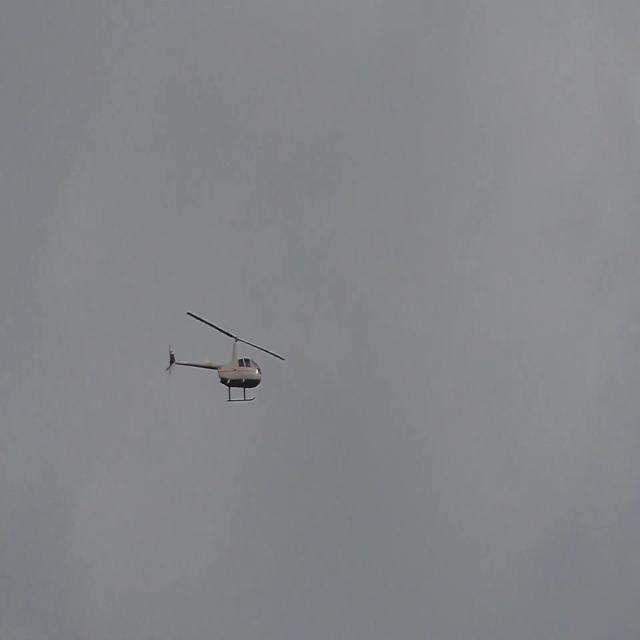CIV_HELO: (167, 334, 263, 405)
